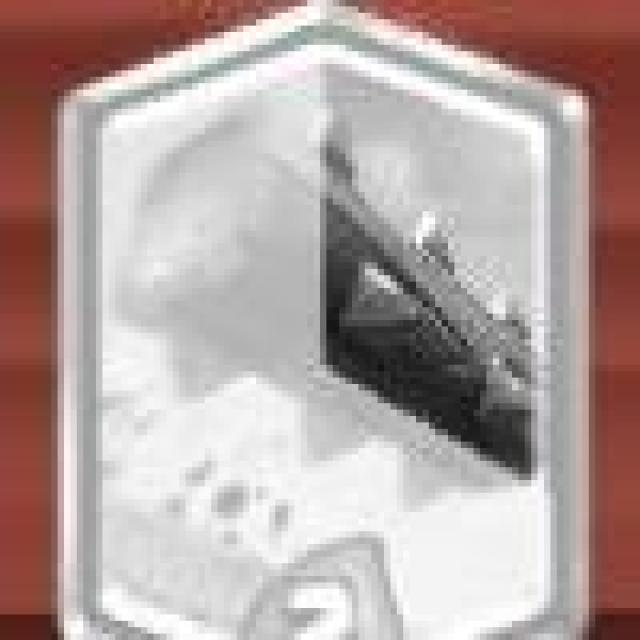Log: (62, 6, 593, 640)
